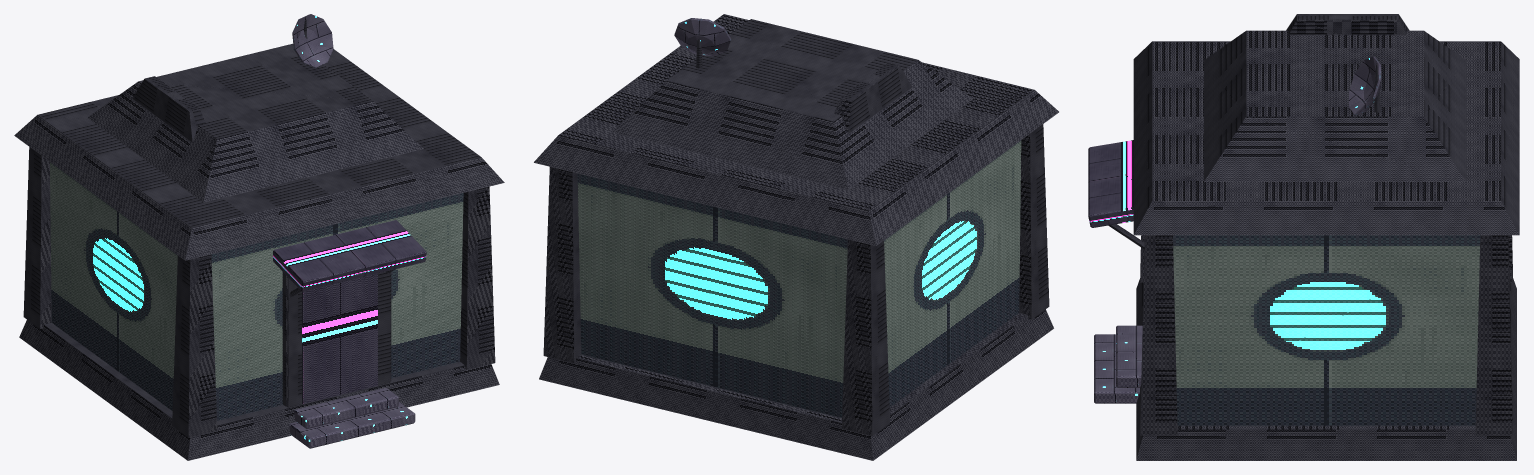
The model's file is alien_house.glb.
The picture shows the model from 3 angles, left to right: view 1: azimuth 30°, elevation 25°; view 2: azimuth 150°, elevation 25°; view 3: azimuth 270°, elevation 25°; orthographic projection. The views are drawn at different scales.
Parts seen in each view (by area): view 1: alien_house__city_roof_mech, alien_house__city_house_facade, alien_house__city_wall_neon, alien_house__city_sidewalk_hex; view 2: alien_house__city_roof_mech, alien_house__city_house_facade, alien_house__city_sidewalk_hex; view 3: alien_house__city_roof_mech, alien_house__city_house_facade, alien_house__city_sidewalk_hex, alien_house__city_wall_neon.
Part boxes in pixels (x1=…): alien_house__city_roof_mech: x1=14, y1=19, x2=504, y2=460; alien_house__city_house_facade: x1=50, y1=162, x2=463, y2=420; alien_house__city_wall_neon: x1=273, y1=220, x2=426, y2=403; alien_house__city_sidewalk_hex: x1=289, y1=14, x2=415, y2=448; alien_house__city_roof_mech: x1=534, y1=14, x2=1058, y2=460; alien_house__city_house_facade: x1=577, y1=140, x2=1021, y2=417; alien_house__city_sidewalk_hex: x1=674, y1=18, x2=730, y2=56; alien_house__city_roof_mech: x1=1108, y1=14, x2=1519, y2=460; alien_house__city_house_facade: x1=1173, y1=235, x2=1480, y2=425; alien_house__city_sidewalk_hex: x1=1094, y1=56, x2=1381, y2=403; alien_house__city_wall_neon: x1=1088, y1=140, x2=1144, y2=238.
Size of the model in its own units: 4.92 by 4.59 by 5.1.
Materials: 4 (4 with a texture image).
